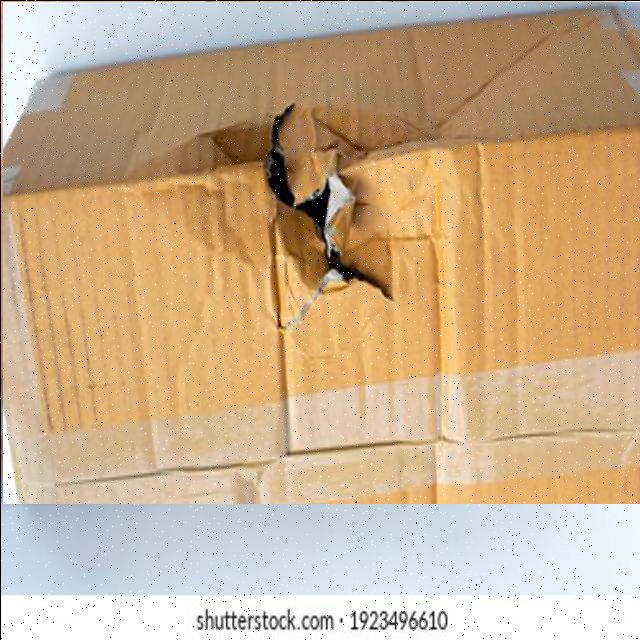defect: (2, 1, 639, 503)
